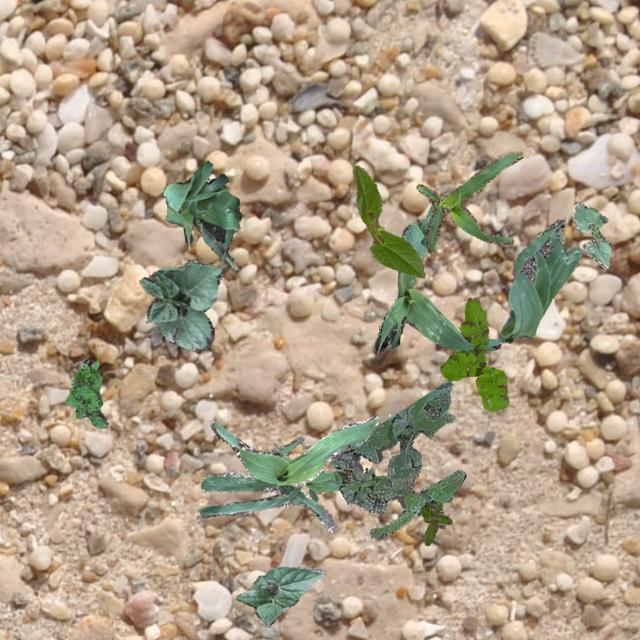crop: (197, 416, 379, 532), (374, 202, 499, 350), (416, 150, 522, 252), (498, 218, 582, 342), (162, 160, 240, 268), (352, 165, 424, 276), (138, 260, 222, 350), (271, 436, 374, 502), (234, 566, 324, 624), (572, 202, 610, 268)
weed: (328, 380, 454, 496), (333, 468, 465, 538), (440, 296, 508, 410), (64, 358, 108, 427), (420, 502, 450, 544)
